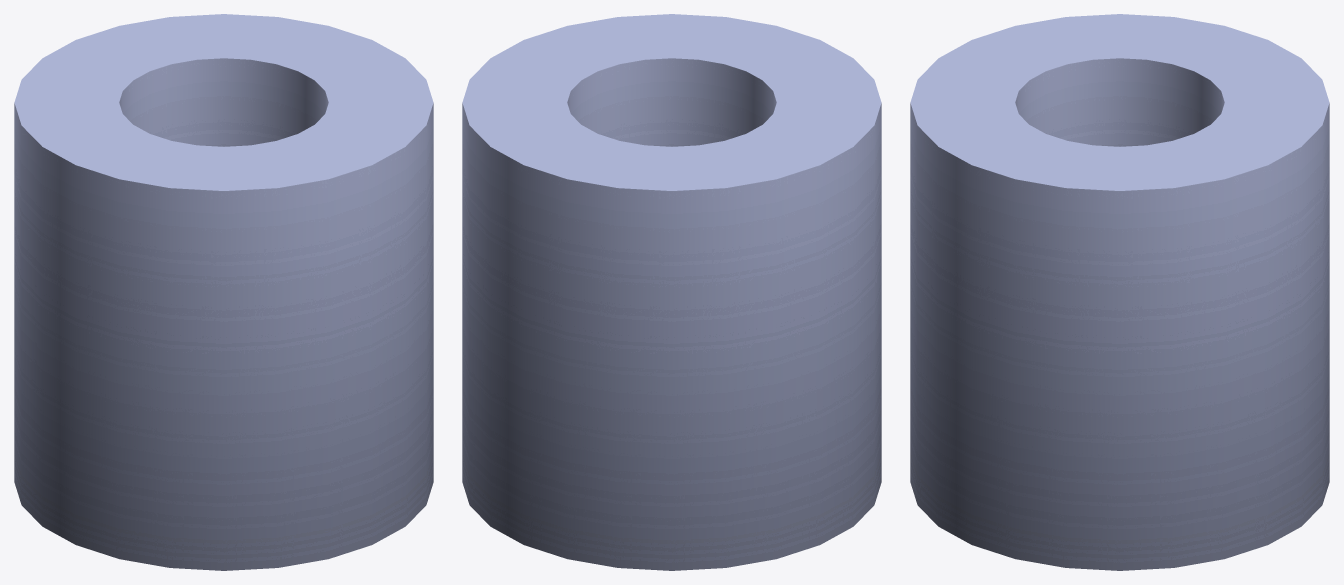
File: shape-hollow-cylinder-detailed.glb
3 views of the same model, side by side, from view 1: azimuth 30°, elevation 25°; view 2: azimuth 150°, elevation 25°; view 3: azimuth 270°, elevation 25° (orthographic).
Visible parts, largest first — view 1: shape-hollow-cylinder-detailed-col; view 2: shape-hollow-cylinder-detailed-col; view 3: shape-hollow-cylinder-detailed-col.
Part boxes in pixels (x1,y1,x2,y2): shape-hollow-cylinder-detailed-col: [14, 14, 433, 570]; shape-hollow-cylinder-detailed-col: [462, 14, 881, 570]; shape-hollow-cylinder-detailed-col: [910, 14, 1329, 570].
Size of the model in its own units: 1 by 1 by 1.
1 material, 1 textured.
